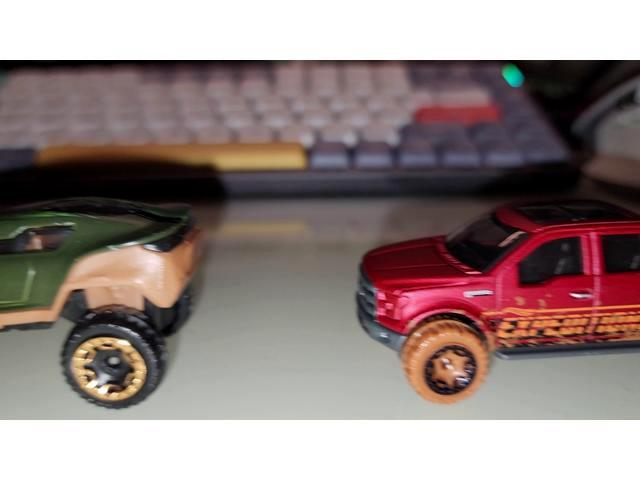toy-car: (354, 196, 640, 406), (1, 192, 204, 410)
